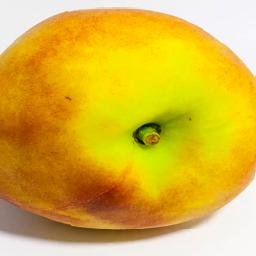Peach Fresh: (1, 7, 256, 229)
